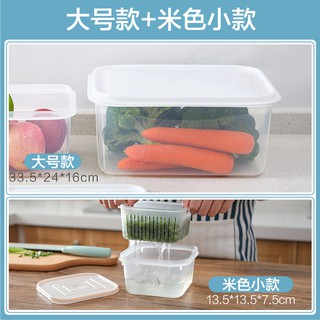PlasticBox: (84, 61, 284, 181)
